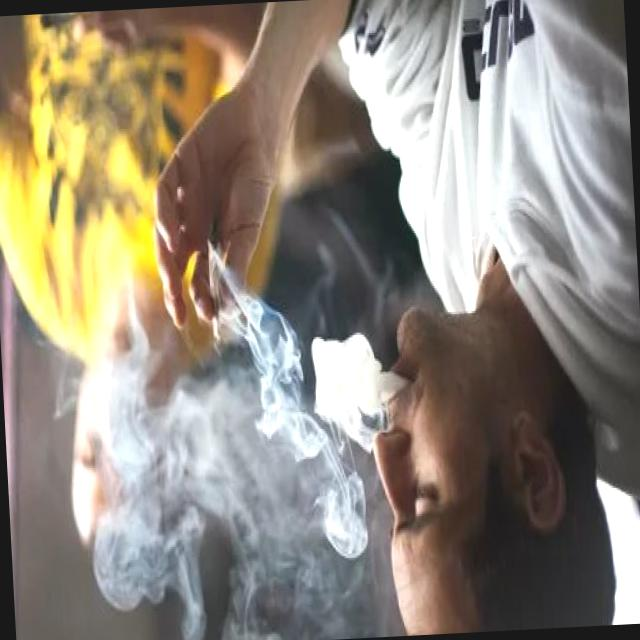cigarette: (203, 230, 226, 342)
